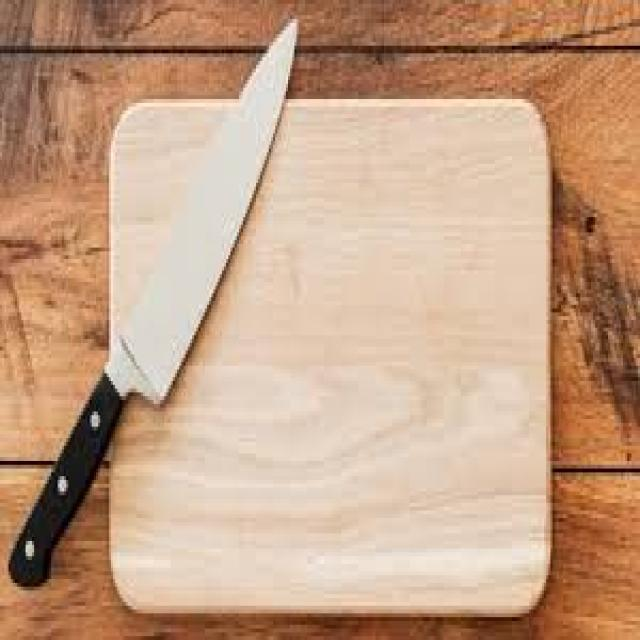Knife: (6, 15, 294, 587)
